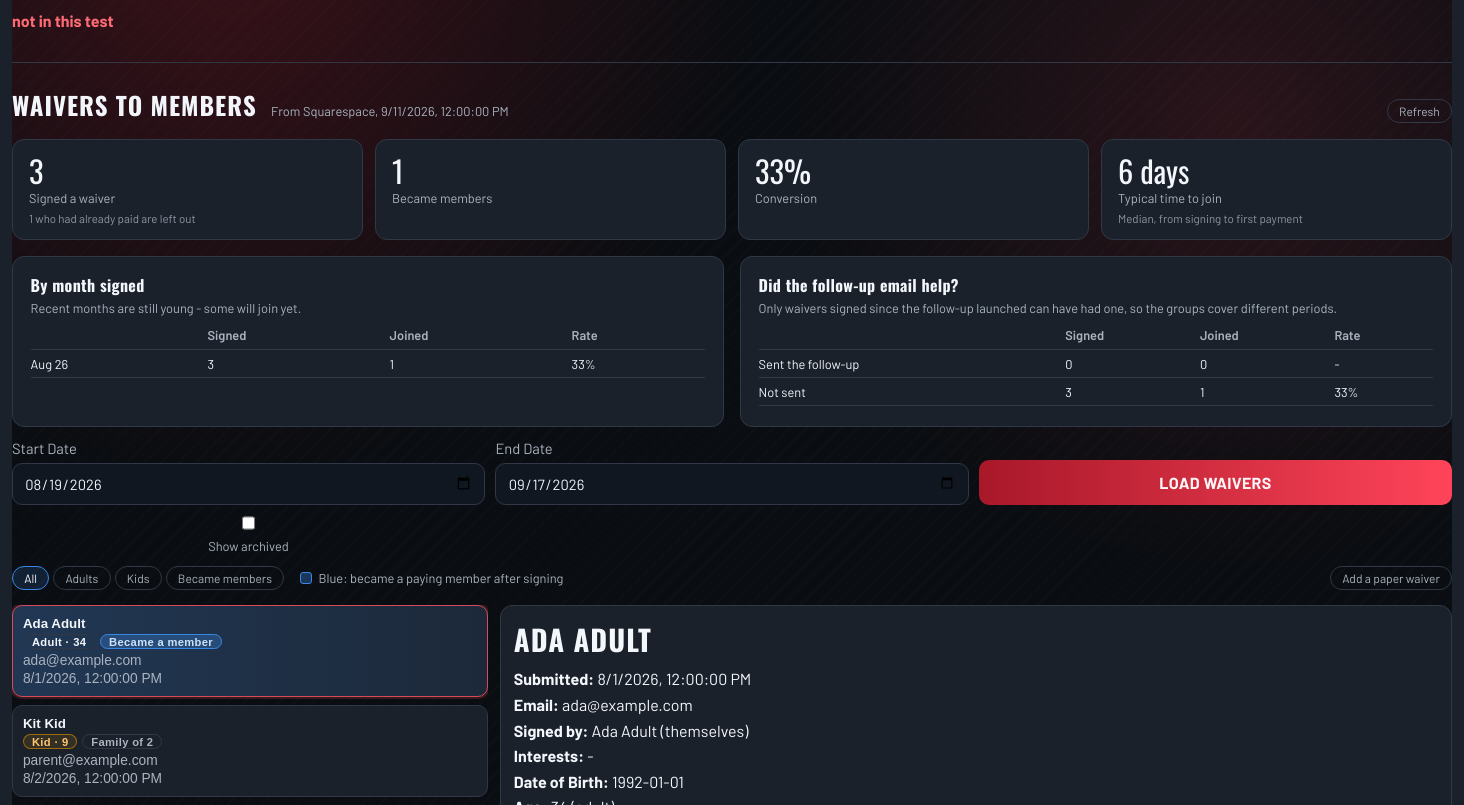
Test: WaiverAdmin list › shows which waivers a parent signed together
Expected: the text "Family of 2" is shown, [82,734,162,749]
Click the button "Kit Kid". click: (44, 723)
box: [12,705,488,797]
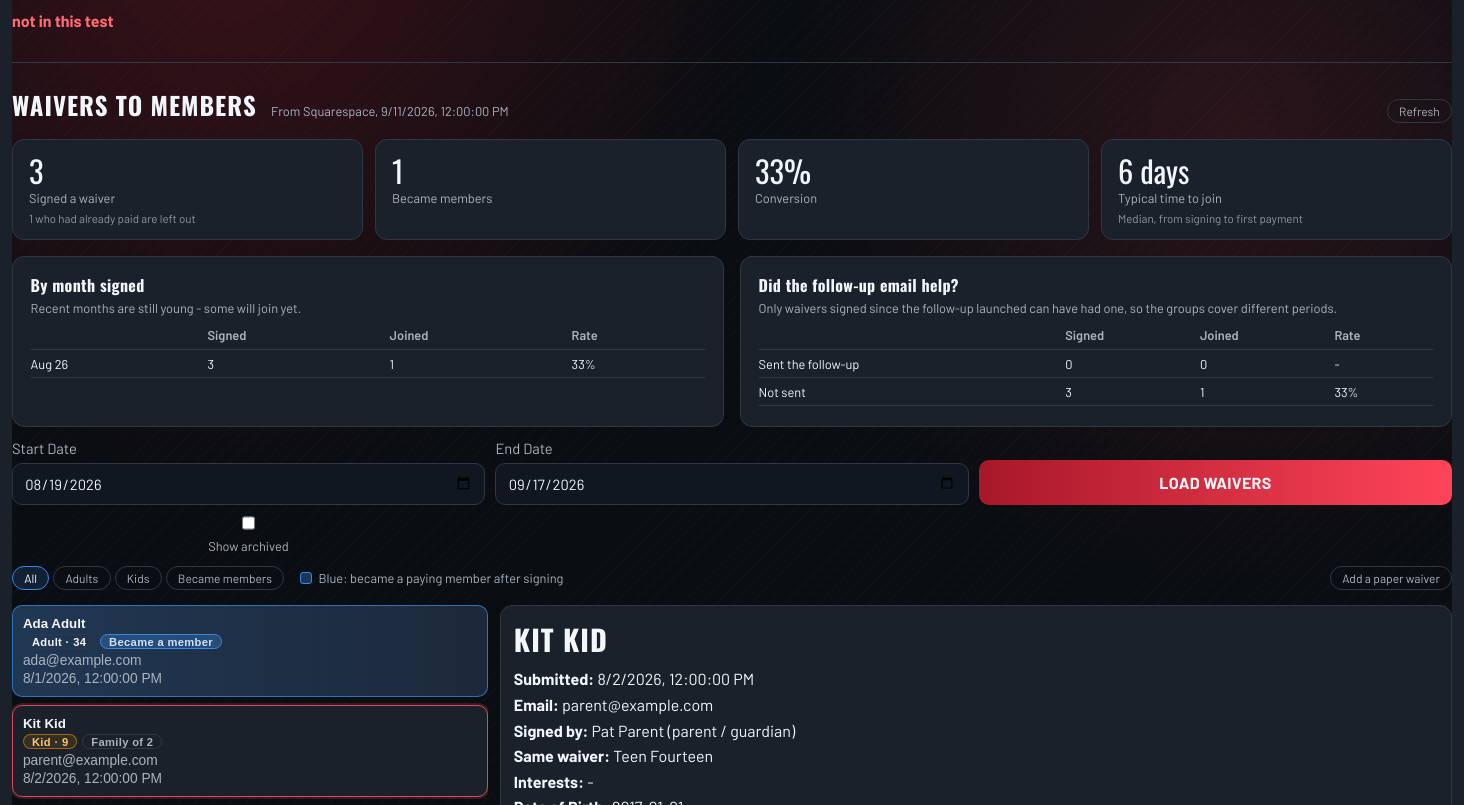
Now the text "Pat Parent (parent / guardian)" is shown, box [591,721,795,740]
Now the text "Same waiver:" reads "Same waiver: Teen Fourteen", box [514,746,713,765]
